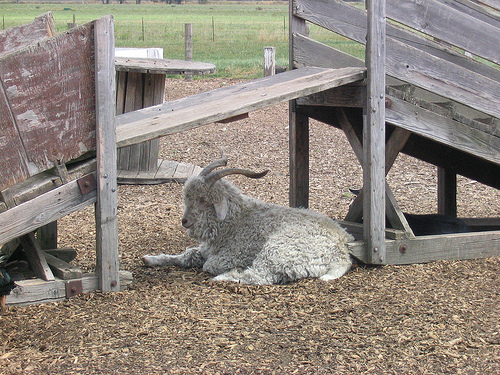goat: (140, 157, 356, 285)
